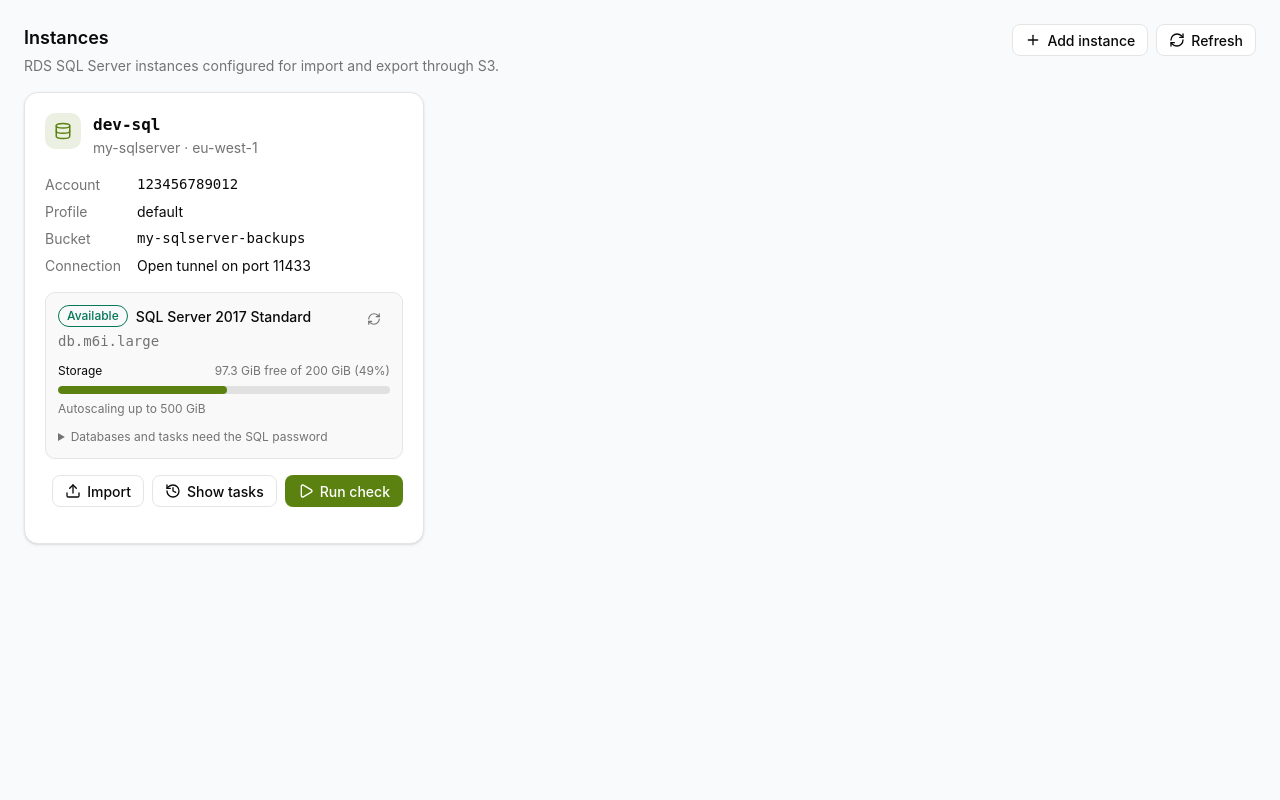
it: InstancesPage › shows and hides the tasks of a target
Click the button "Show tasks": (214, 491) [152,475,277,507]
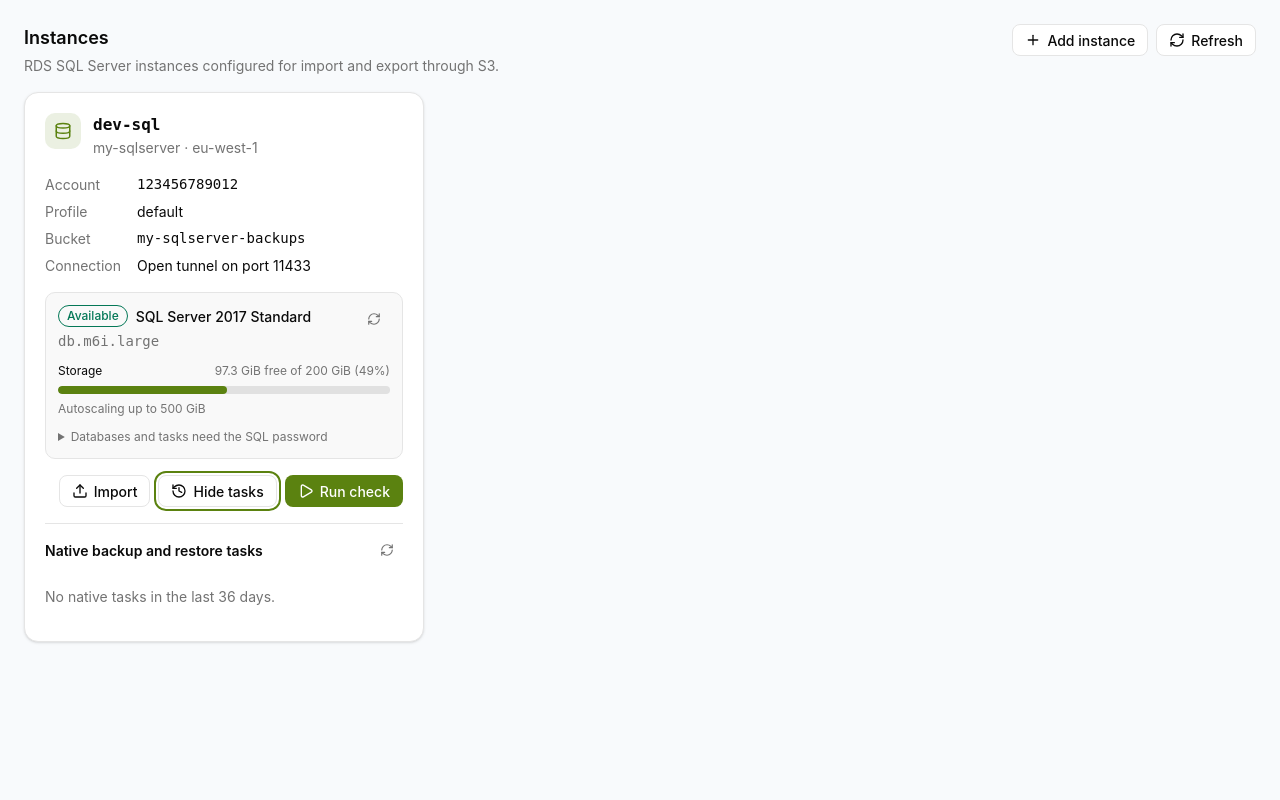
Expected: the button named "Show tasks" is expanded
Expected: the text "No native tasks in the last 36 days." is shown, [45,588,275,605]
Click the button named "Show tasks": (218, 491) [158,475,277,507]
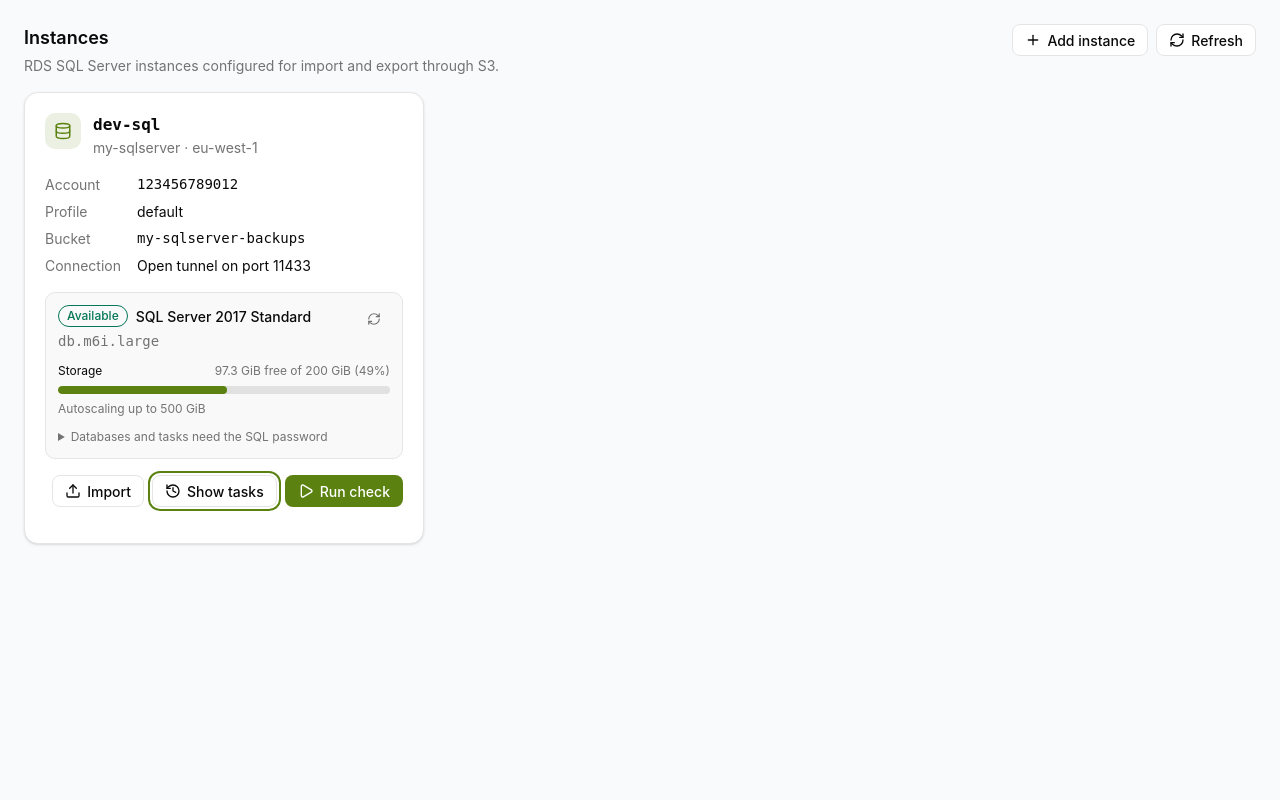
Expected: the button "Show tasks" is collapsed, [152,475,277,507]
Expected: the text "No native tasks in the last 36 days." is gone
